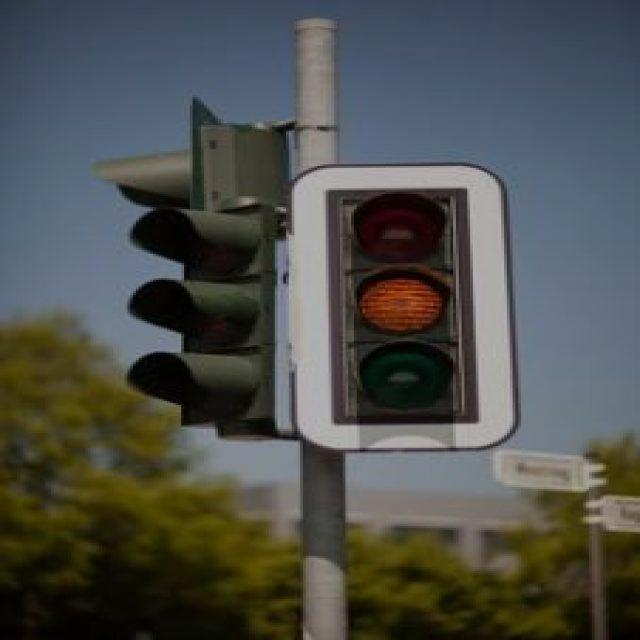Yellow: (326, 191, 476, 424)
